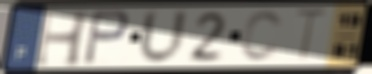2: (186, 10, 230, 64)
C: (238, 9, 287, 64)
H: (32, 9, 91, 69)
P: (81, 9, 131, 67)
T: (292, 7, 332, 65)
U: (136, 8, 191, 67)
